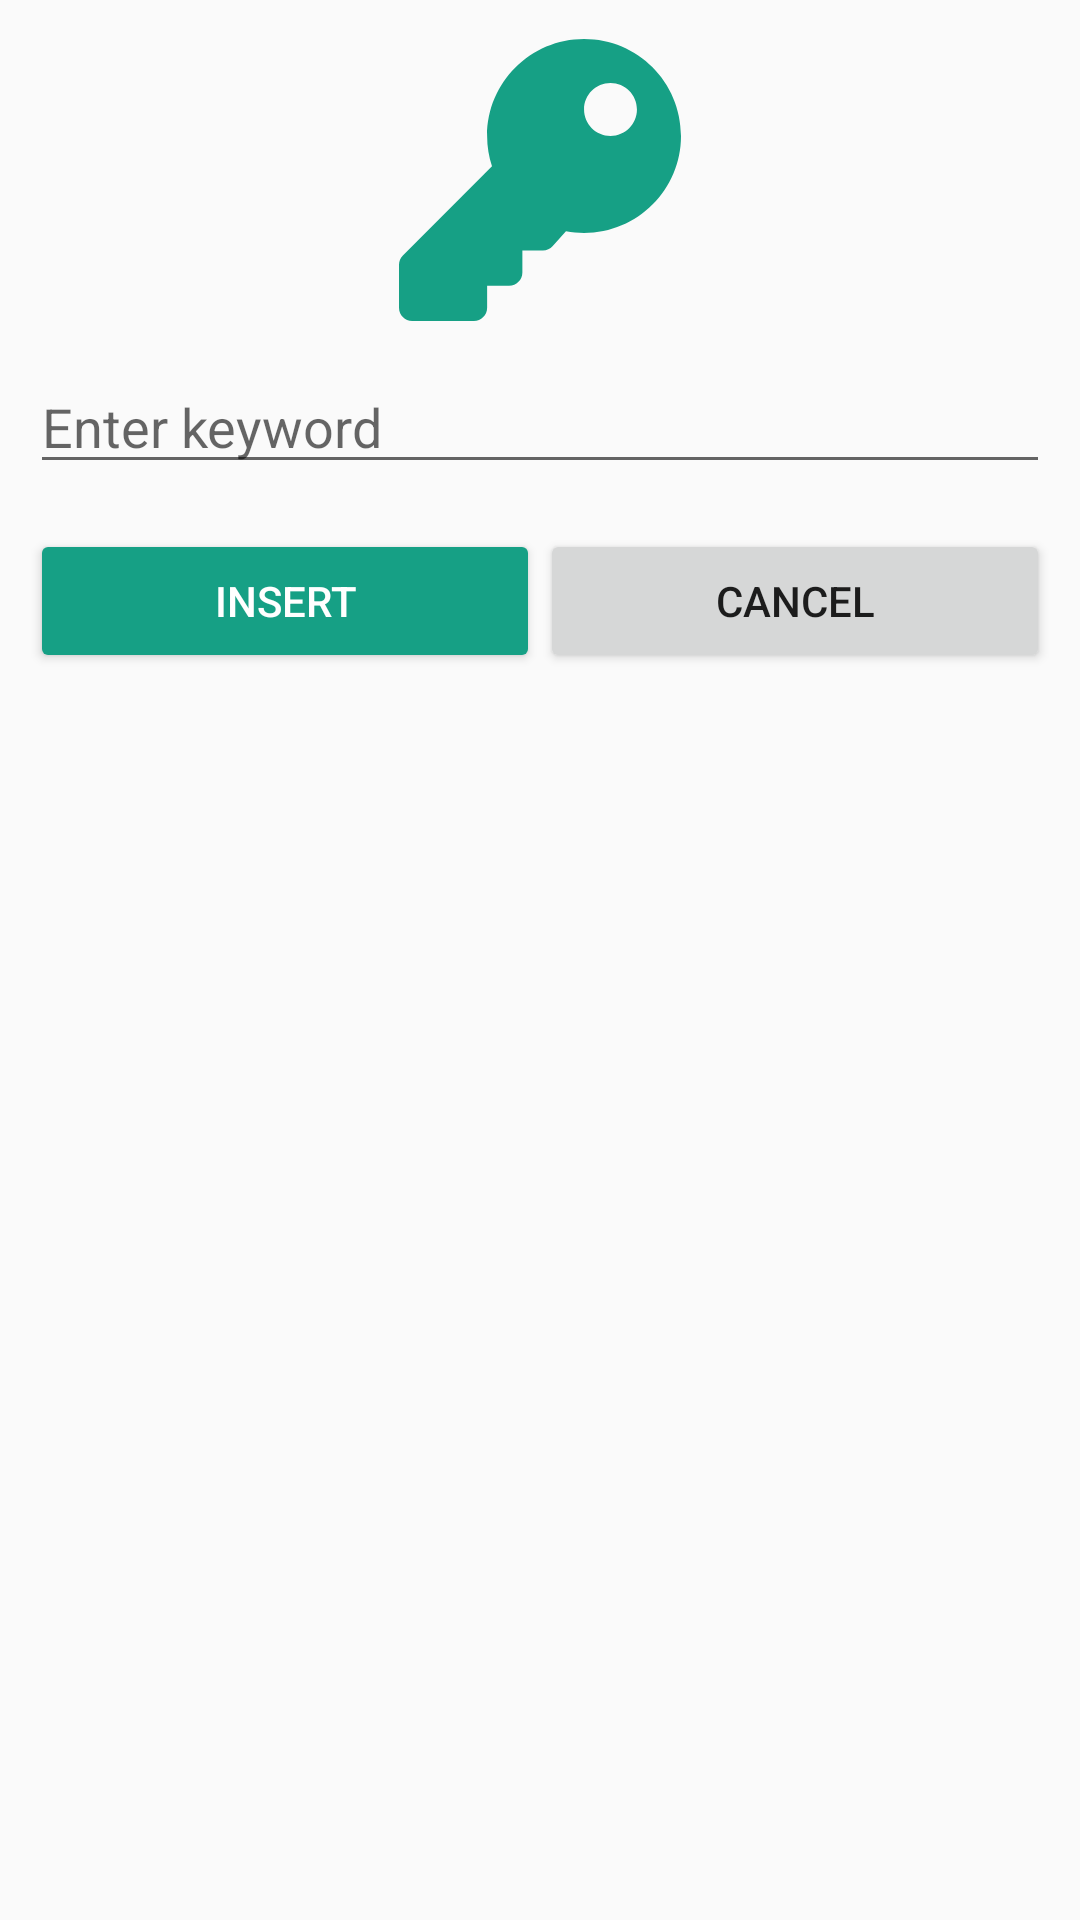

Icons on this 1080px×1920px Android screen, each with the point to tap as (x,y):
Add keyword icon: (540,180)
